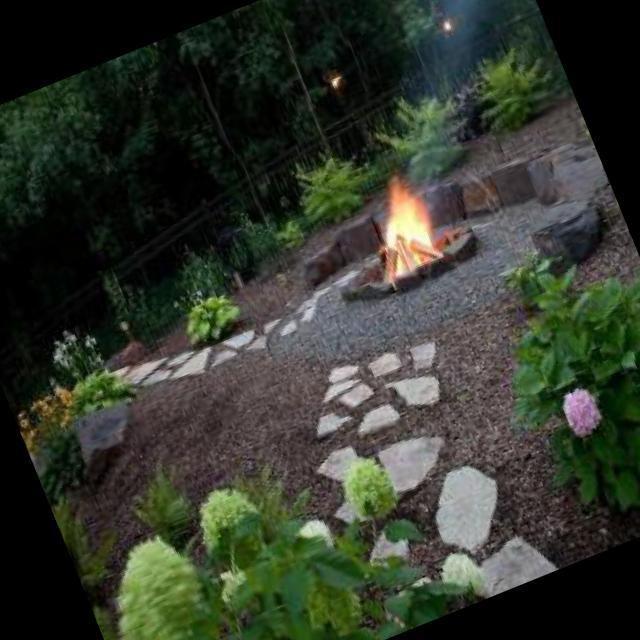fire: (358, 175, 449, 278)
